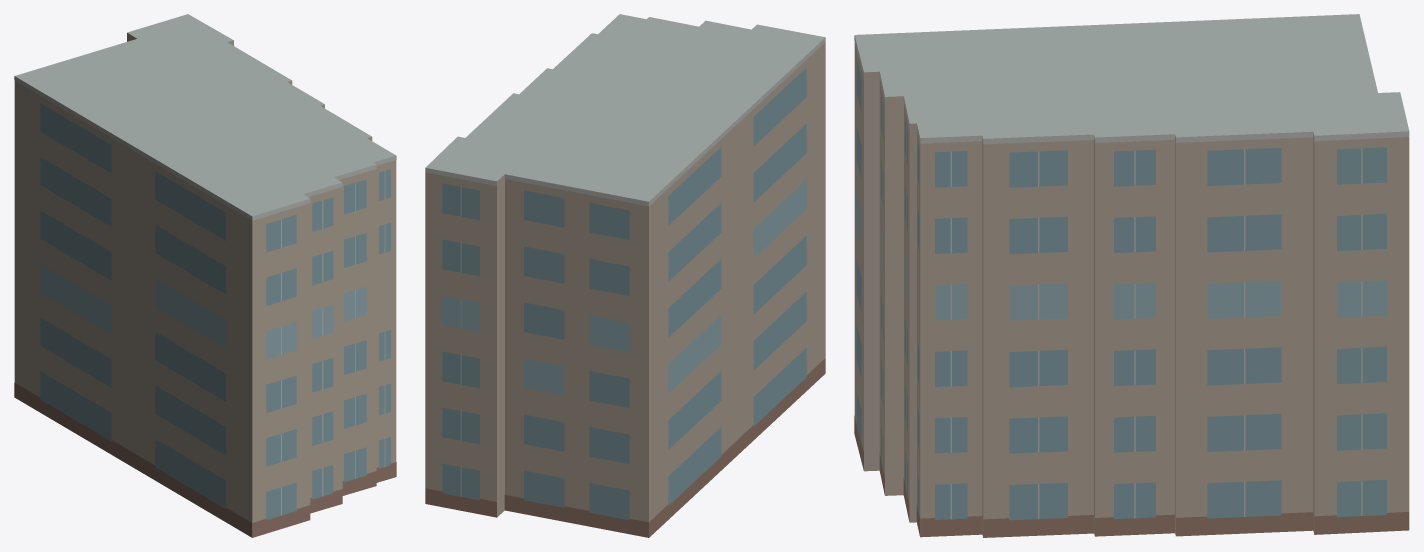
Rendered from survey-upis-33047500.glb.
3 renders of one model, left to right at view 1: azimuth 30°, elevation 25°; view 2: azimuth 150°, elevation 25°; view 3: azimuth 270°, elevation 25°, orthographic. The views are drawn at different scales.
Visible parts, largest first — view 1: survey-upis-33047500.tmp; view 2: survey-upis-33047500.tmp; view 3: survey-upis-33047500.tmp.
Part boxes in pixels (left/top/right/bottom): survey-upis-33047500.tmp: left=14, top=14, right=396, bottom=537; survey-upis-33047500.tmp: left=425, top=14, right=825, bottom=537; survey-upis-33047500.tmp: left=854, top=14, right=1409, bottom=537.
Bounding box in the file's own units: 11.82 × 17.6 × 22.2.
